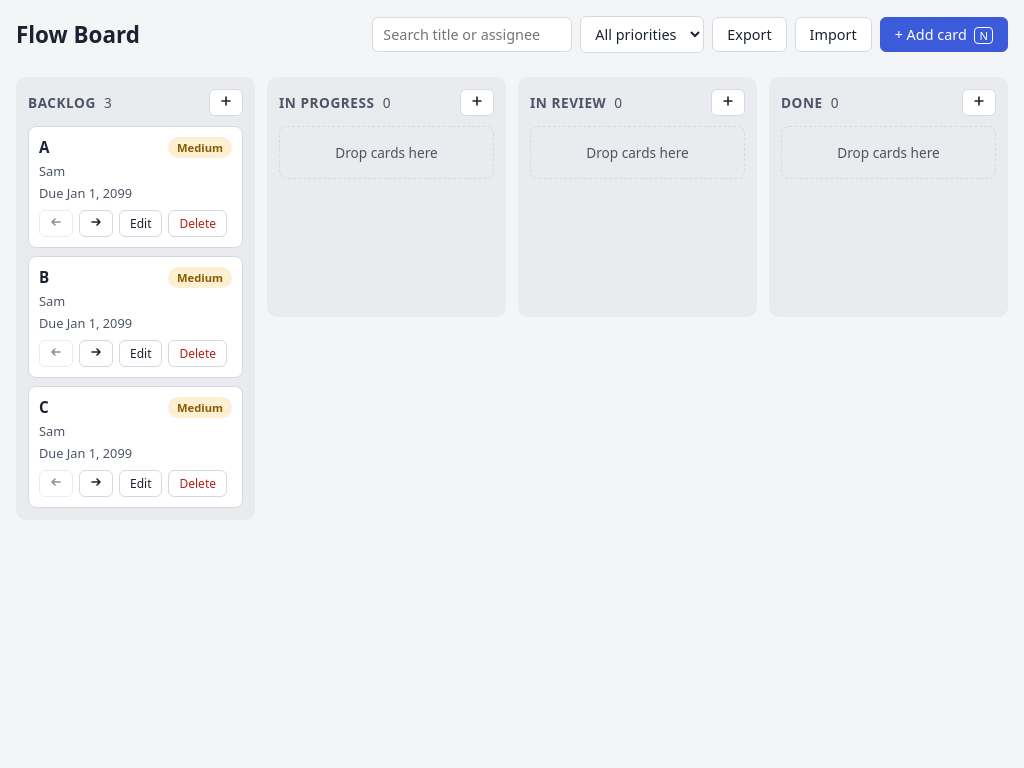
Scenario: deleting cards (audit: undo) › undo restores the card at its original position and focuses it
This screenshot has width=1024, height=768.
Click the button named "Delete \"B\"": [198, 354] box [168,340,227,367]
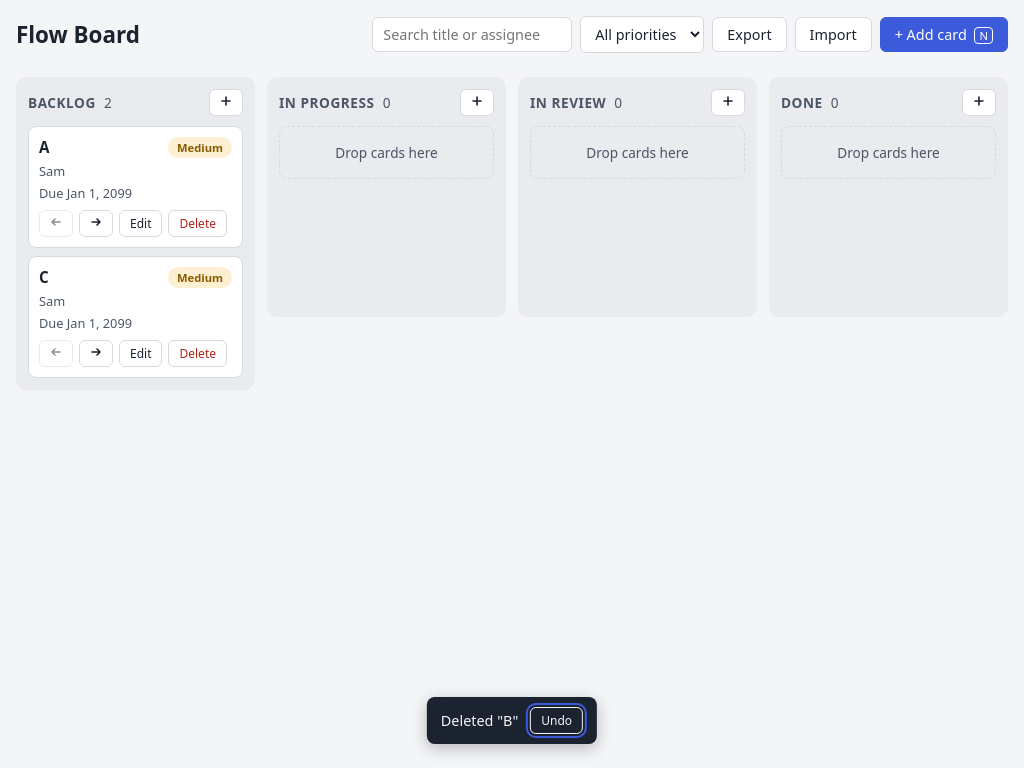
Click the button "Undo": [557, 720] box [530,707,583,734]
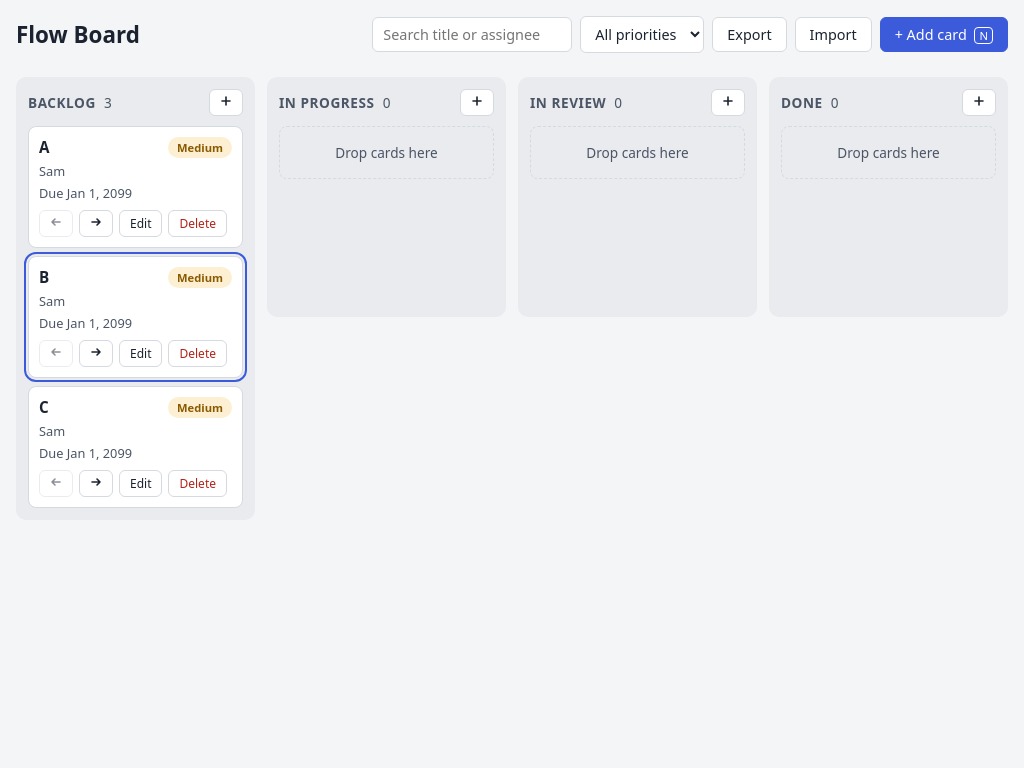
Result: the message "Deleted \"B\" Undo" is gone
